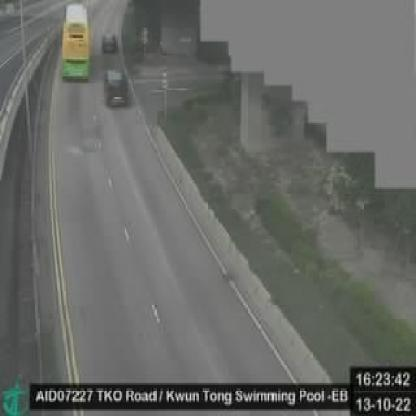Bus: (63, 2, 91, 80)
Car: (104, 68, 128, 108), (103, 31, 117, 53)
